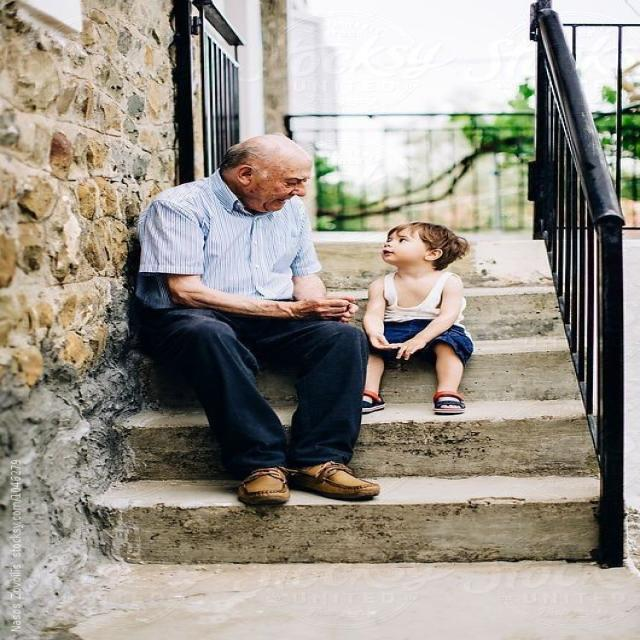idoso sentado: (97, 101, 374, 512)
